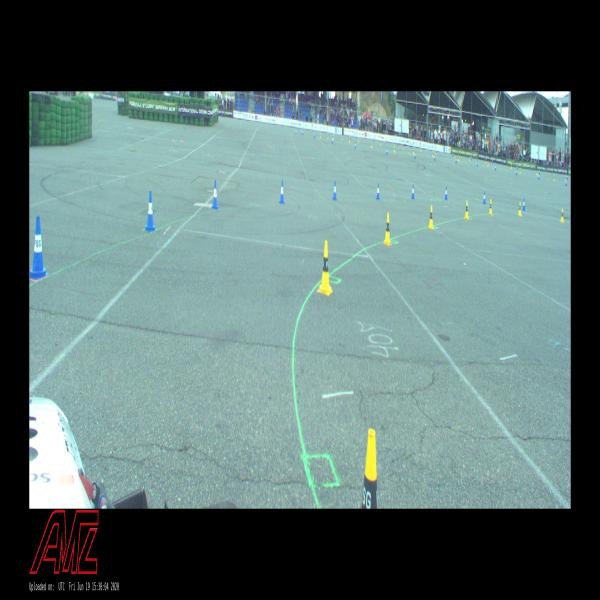blue_cone: (30, 216, 49, 280), (145, 191, 156, 232), (211, 181, 219, 209), (279, 180, 285, 203), (333, 181, 337, 201), (376, 183, 380, 200), (411, 184, 415, 199), (522, 198, 526, 211), (483, 191, 486, 205), (444, 187, 447, 200), (354, 141, 357, 149), (433, 153, 436, 161), (516, 168, 518, 176), (386, 147, 388, 155), (455, 156, 457, 164), (414, 151, 416, 159), (476, 160, 478, 167), (494, 164, 496, 171), (565, 179, 567, 186), (538, 173, 540, 180), (538, 170, 540, 174), (314, 132, 315, 139), (332, 137, 333, 144), (567, 174, 568, 180)
yellow_cone: (362, 429, 378, 509), (318, 240, 333, 296), (384, 212, 392, 246), (428, 205, 434, 230), (488, 199, 493, 215), (465, 201, 469, 220), (560, 209, 565, 223), (518, 201, 522, 216), (393, 146, 396, 152), (371, 141, 373, 149), (432, 151, 434, 158), (458, 156, 460, 163), (553, 174, 555, 181), (487, 160, 489, 167), (536, 170, 538, 176), (519, 168, 521, 174), (485, 158, 487, 164), (453, 153, 455, 159), (468, 156, 470, 162), (349, 136, 350, 143), (333, 134, 334, 141), (413, 148, 414, 154), (565, 175, 566, 181)
